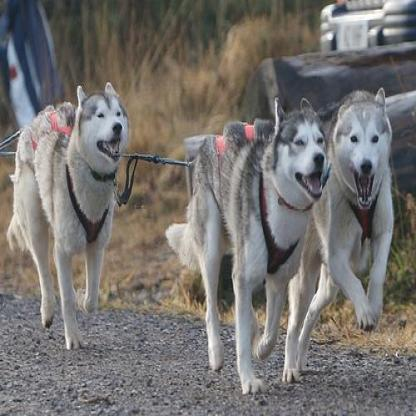malamute: (162, 89, 329, 398), (2, 75, 129, 352), (280, 82, 390, 390)
